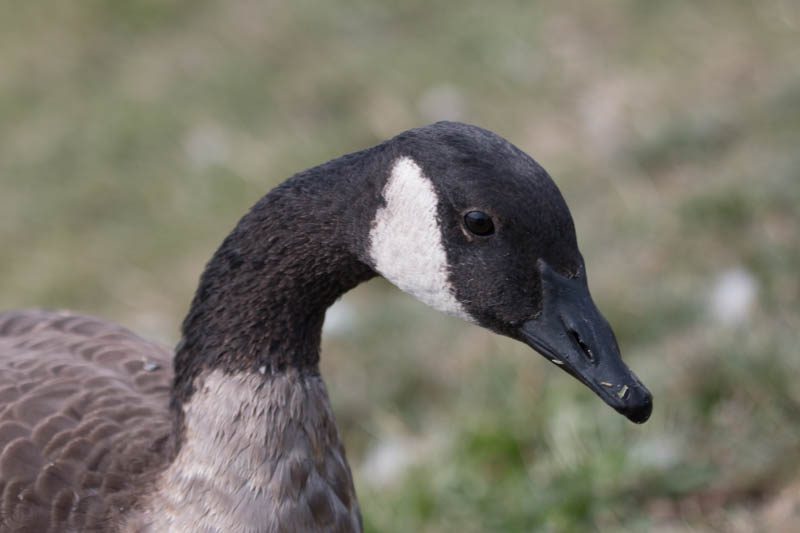goose-head: (354, 120, 654, 426)
